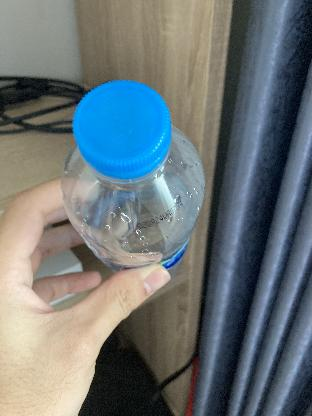Plastic Bottle: (56, 75, 208, 284)
